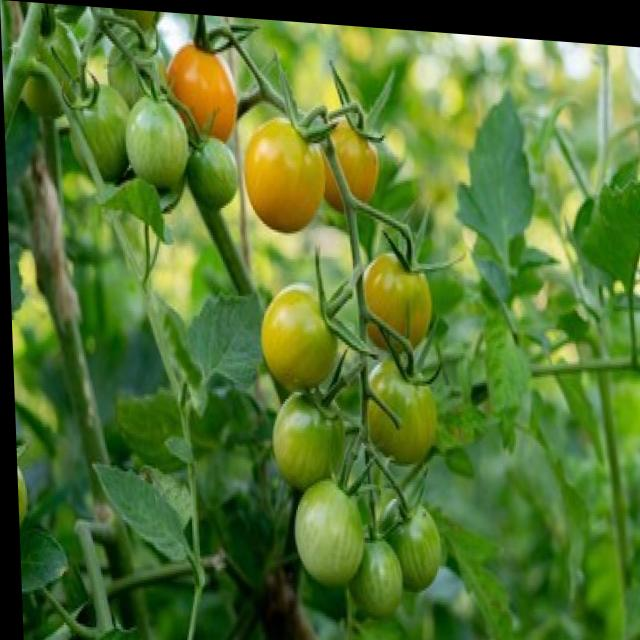kirmizi: (256, 234, 457, 633)
sari: (170, 38, 243, 140)
yesil: (56, 60, 185, 195)
